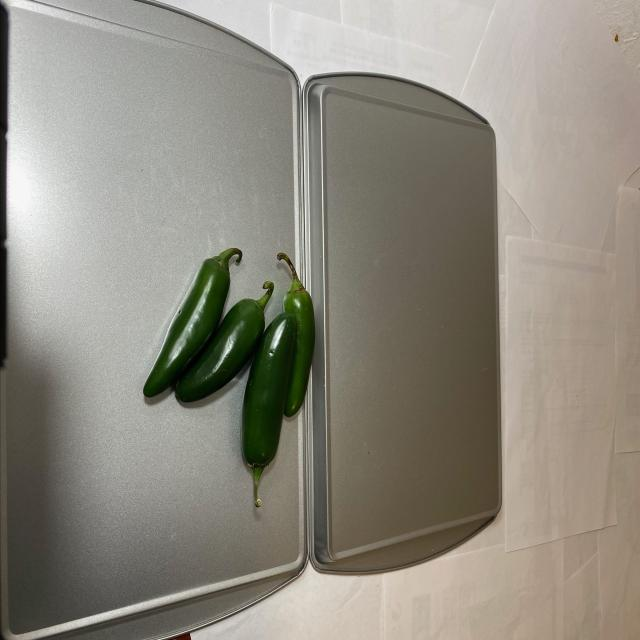chilli: (140, 226, 318, 518)
